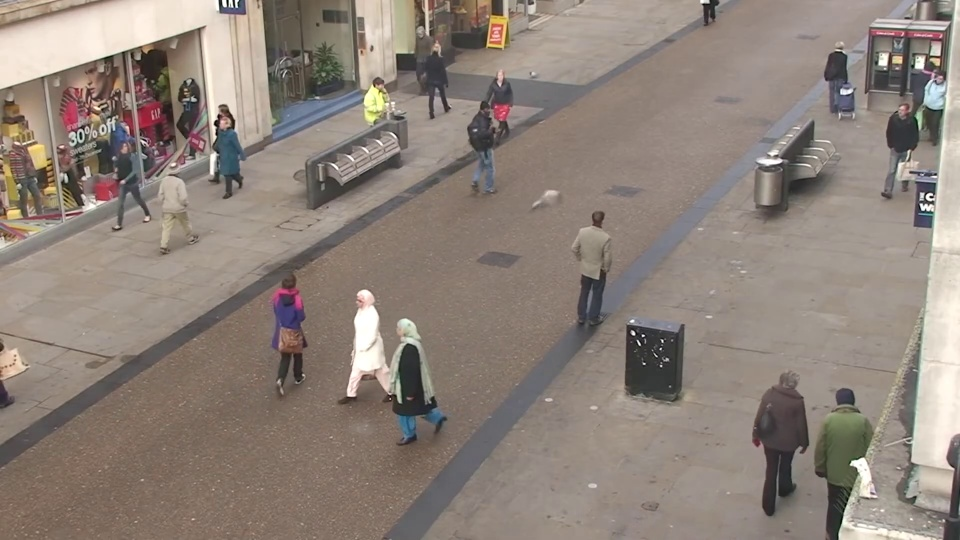pedestrian: (818, 372, 880, 540), (762, 354, 819, 513), (372, 313, 423, 459), (332, 281, 382, 419), (273, 257, 322, 389), (577, 204, 615, 324), (101, 137, 145, 236), (166, 151, 208, 254), (874, 102, 917, 197), (906, 56, 949, 142), (203, 112, 240, 205), (201, 104, 237, 194), (475, 96, 506, 187), (822, 38, 855, 116), (366, 75, 396, 159), (484, 66, 512, 149), (430, 38, 456, 112), (405, 29, 431, 100)
